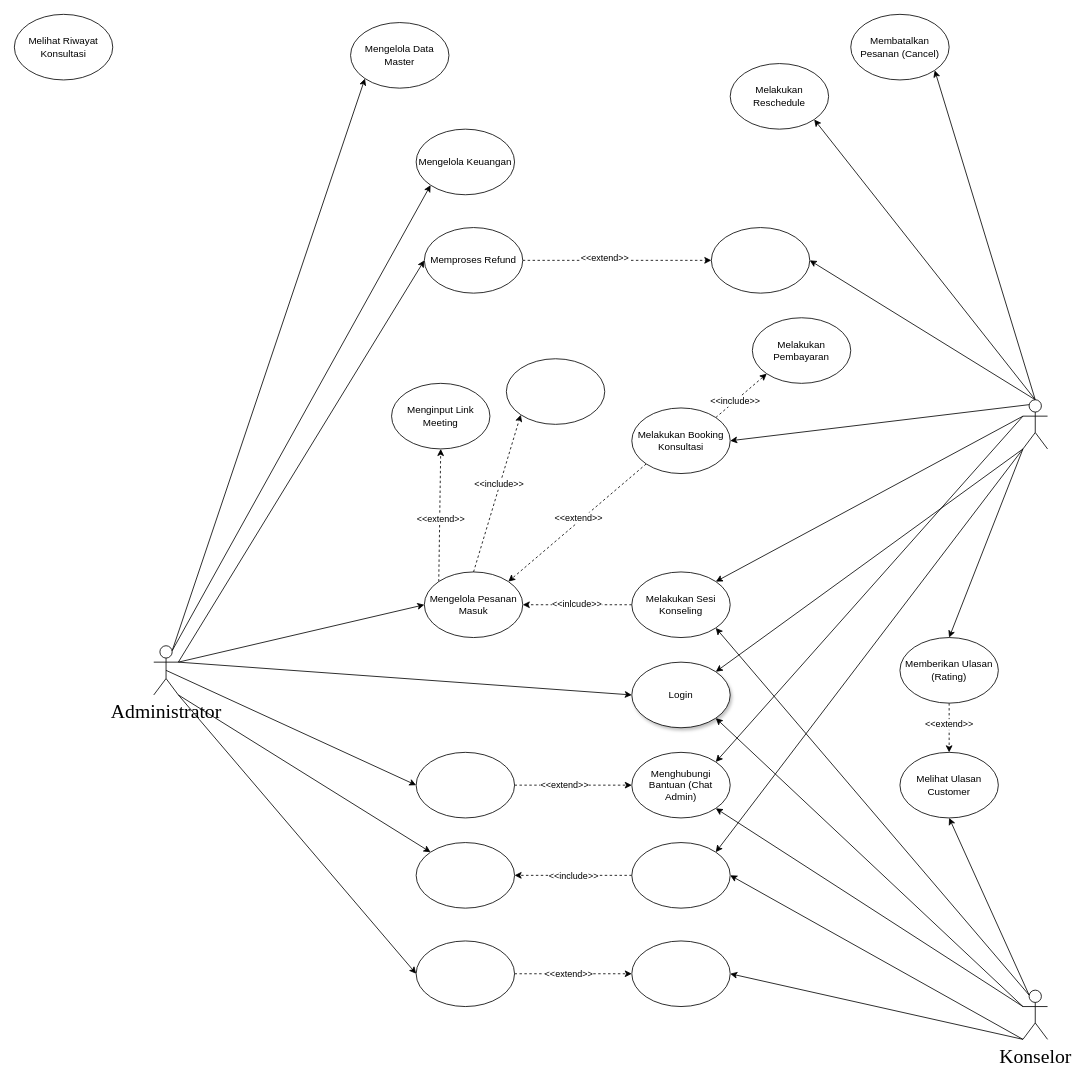
This 1087x1083 diagram has some shape labels left out. The shapes that lost their labels are listed below. From the top down, each one's centre as x and y in pixels, then its label:
(760,260): Mengajukan Refund
(555,391): Mengelola Jadwal Konsultasi
(1035,424): Customer
(465,785): Mengelola Pusat Bantuan
(465,875): Memverifikasi Konselor & Customer
(680,875): Registrasi Akun
(465,973): Mengelola Data Pengguna
(680,973): Kelola Profil
